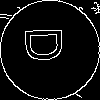D: (25, 25, 72, 64)
